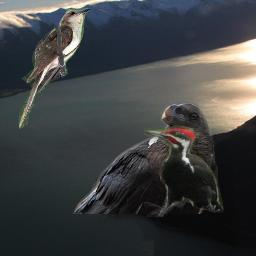Crow: (71, 100, 218, 214)
Cuckoo: (19, 8, 91, 129)
Woodpecker: (144, 122, 224, 217)
